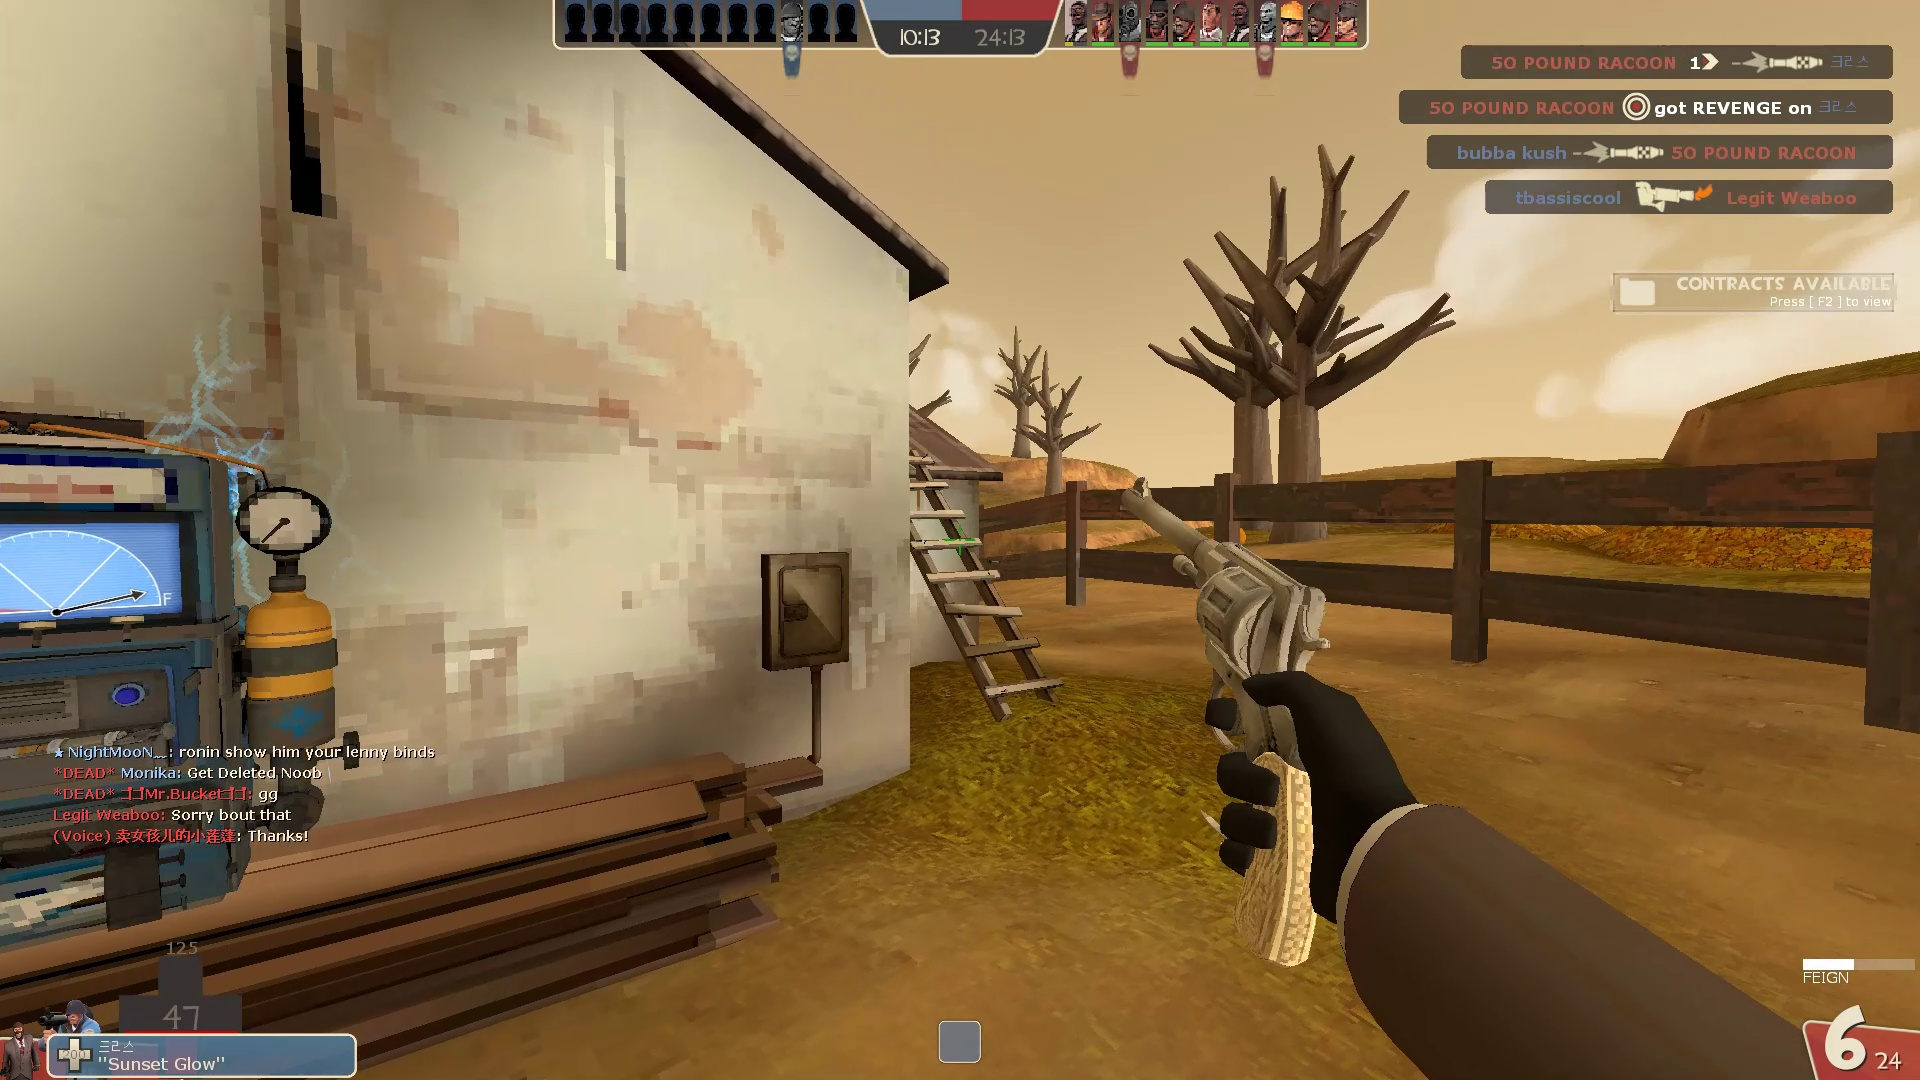blu_dispenser: (1, 390, 351, 956)
